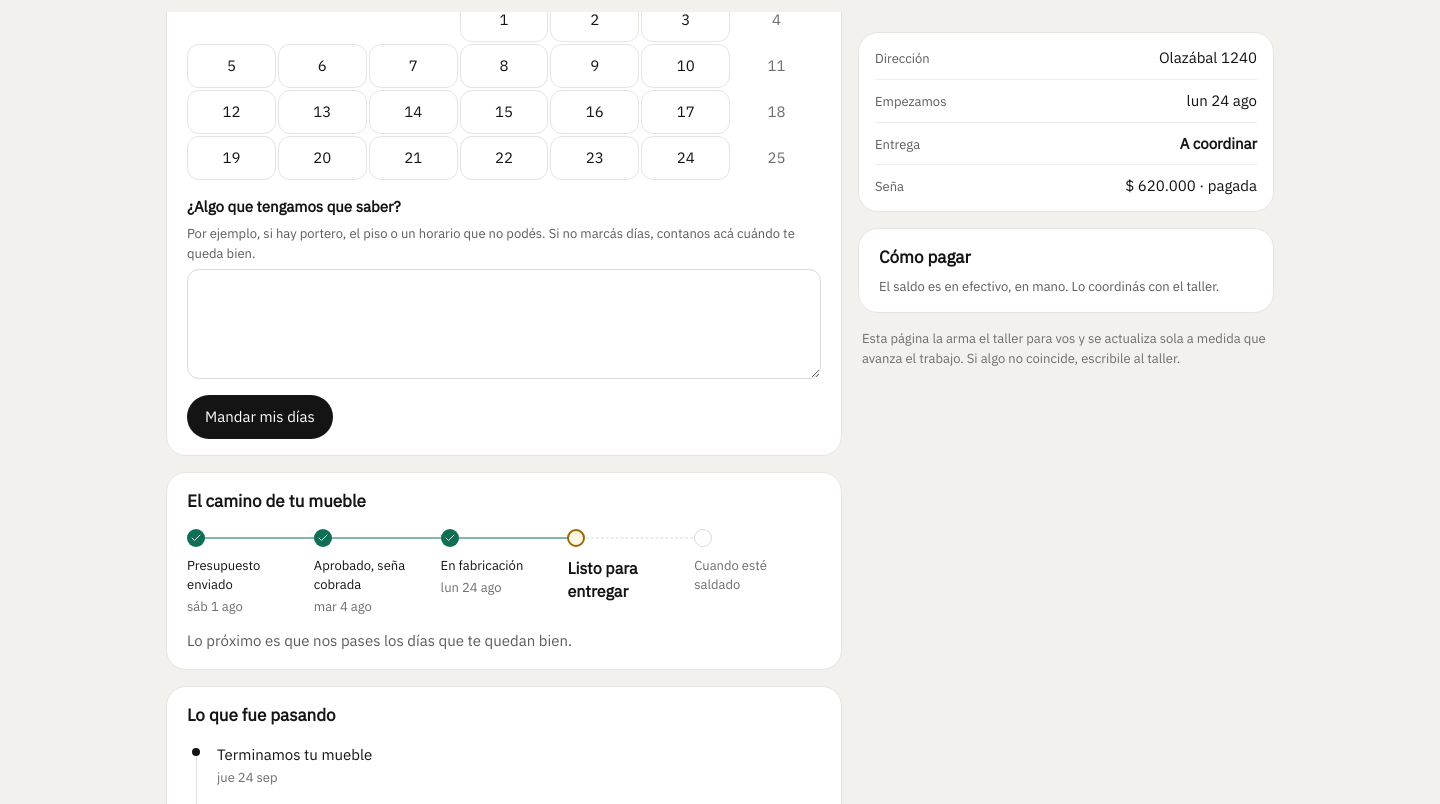
Test: coordinar la entrega desde la página del cliente › los domingos y los días fuera del rango no son botones
(page scrolled)
What coordinates should you click on to do the following:
click the button "Mandar mis días"
I would click on:
 (260, 417)
Its box is [187,395,333,439].
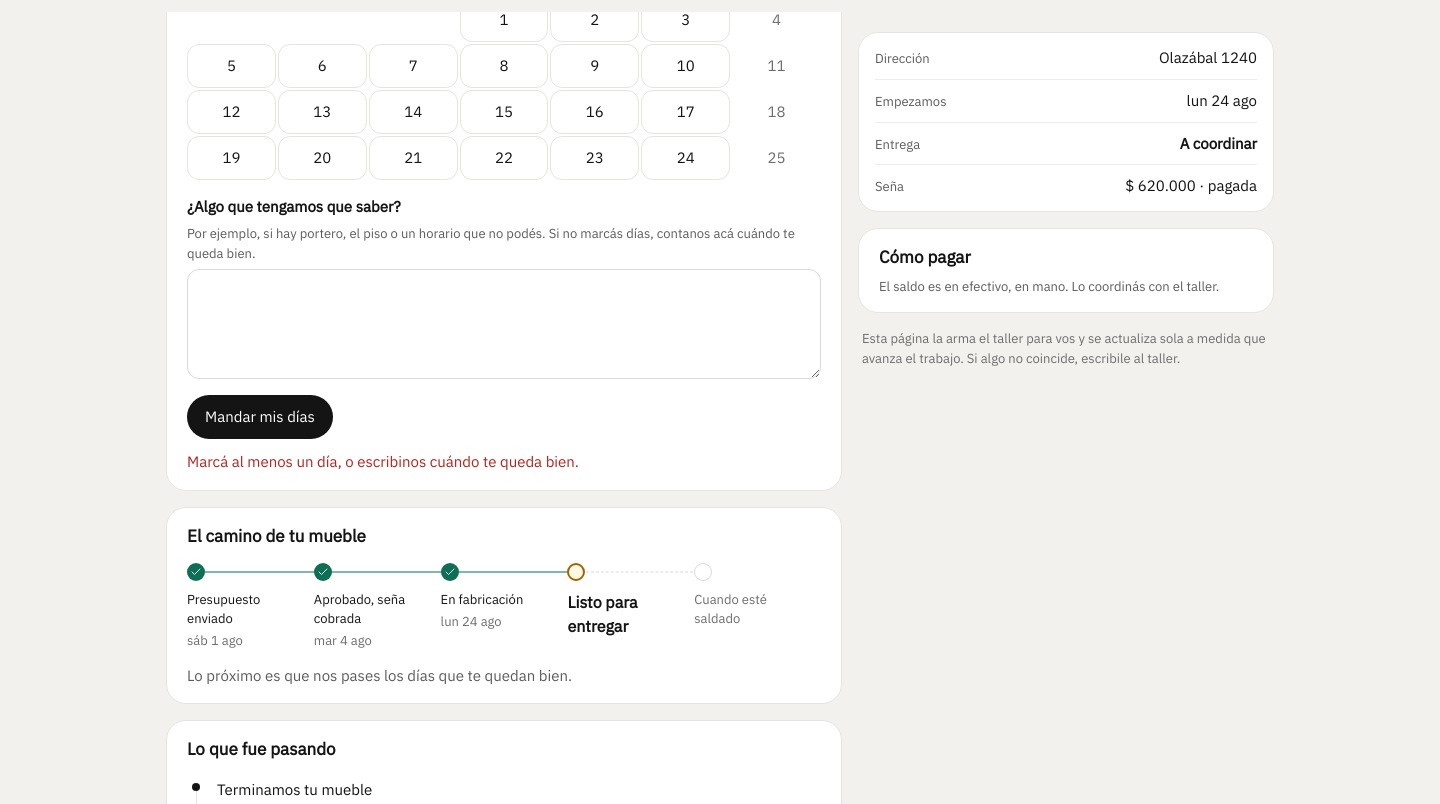
Result: the message reads "Marcá al menos un día, o escribinos cuándo te queda bien." at [187,452,579,471]
